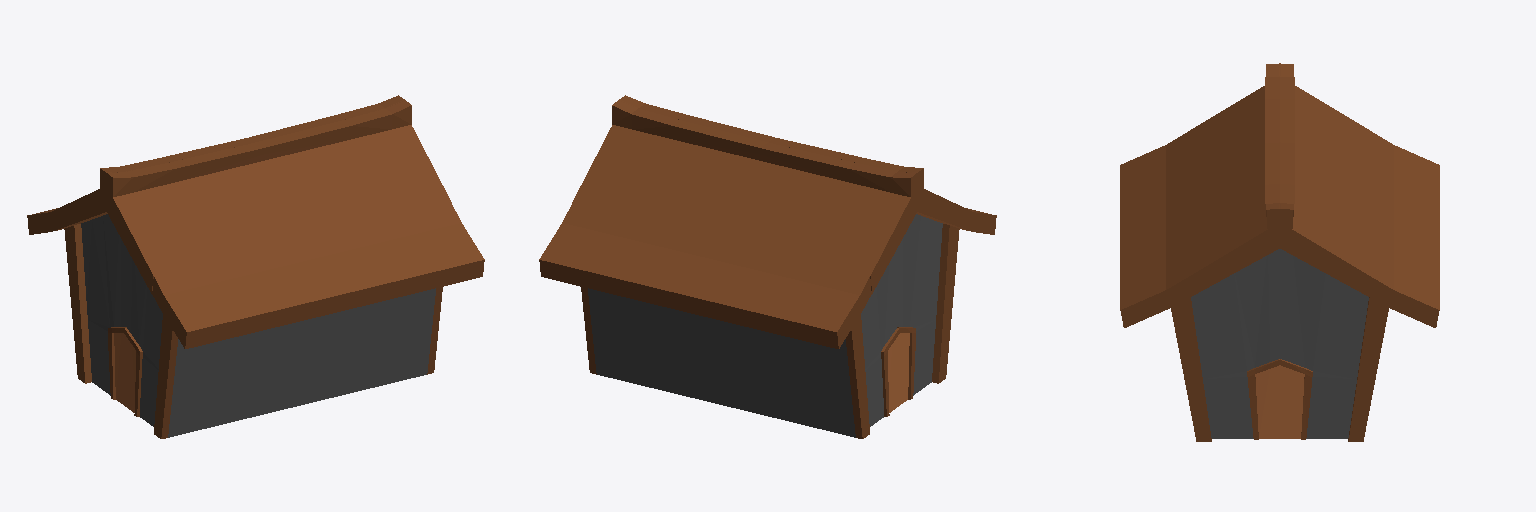
Rendered from House.obj.
3 renders of one model, left to right at view 1: azimuth 30°, elevation 25°; view 2: azimuth 150°, elevation 25°; view 3: azimuth 270°, elevation 25°, orthographic.
Visible parts, largest first — view 1: Cube.034_Cube.038; view 2: Cube.034_Cube.038; view 3: Cube.034_Cube.038.
Part boxes in pixels (x1,y1,x2,y2): Cube.034_Cube.038: (27, 95, 484, 438); Cube.034_Cube.038: (539, 95, 996, 438); Cube.034_Cube.038: (1120, 63, 1439, 441).
Size of the model in its own units: 11.05 by 8.46 by 10.23.